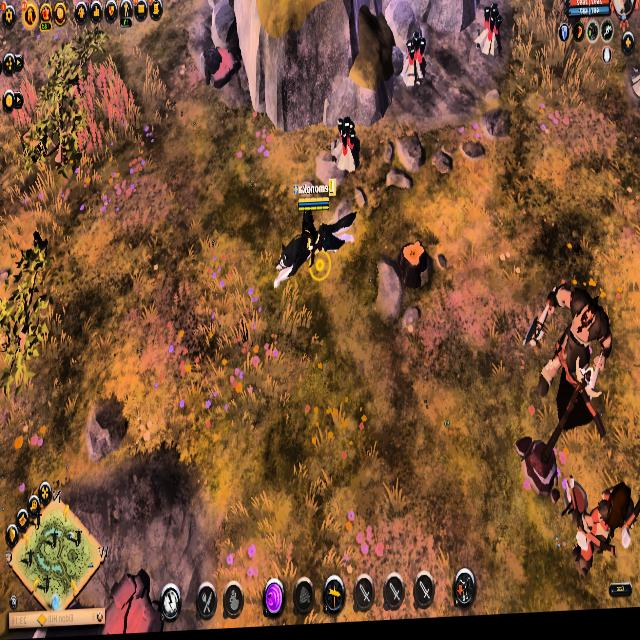ore tier 5: (330, 116, 363, 178), (473, 4, 507, 63), (400, 34, 429, 94)
